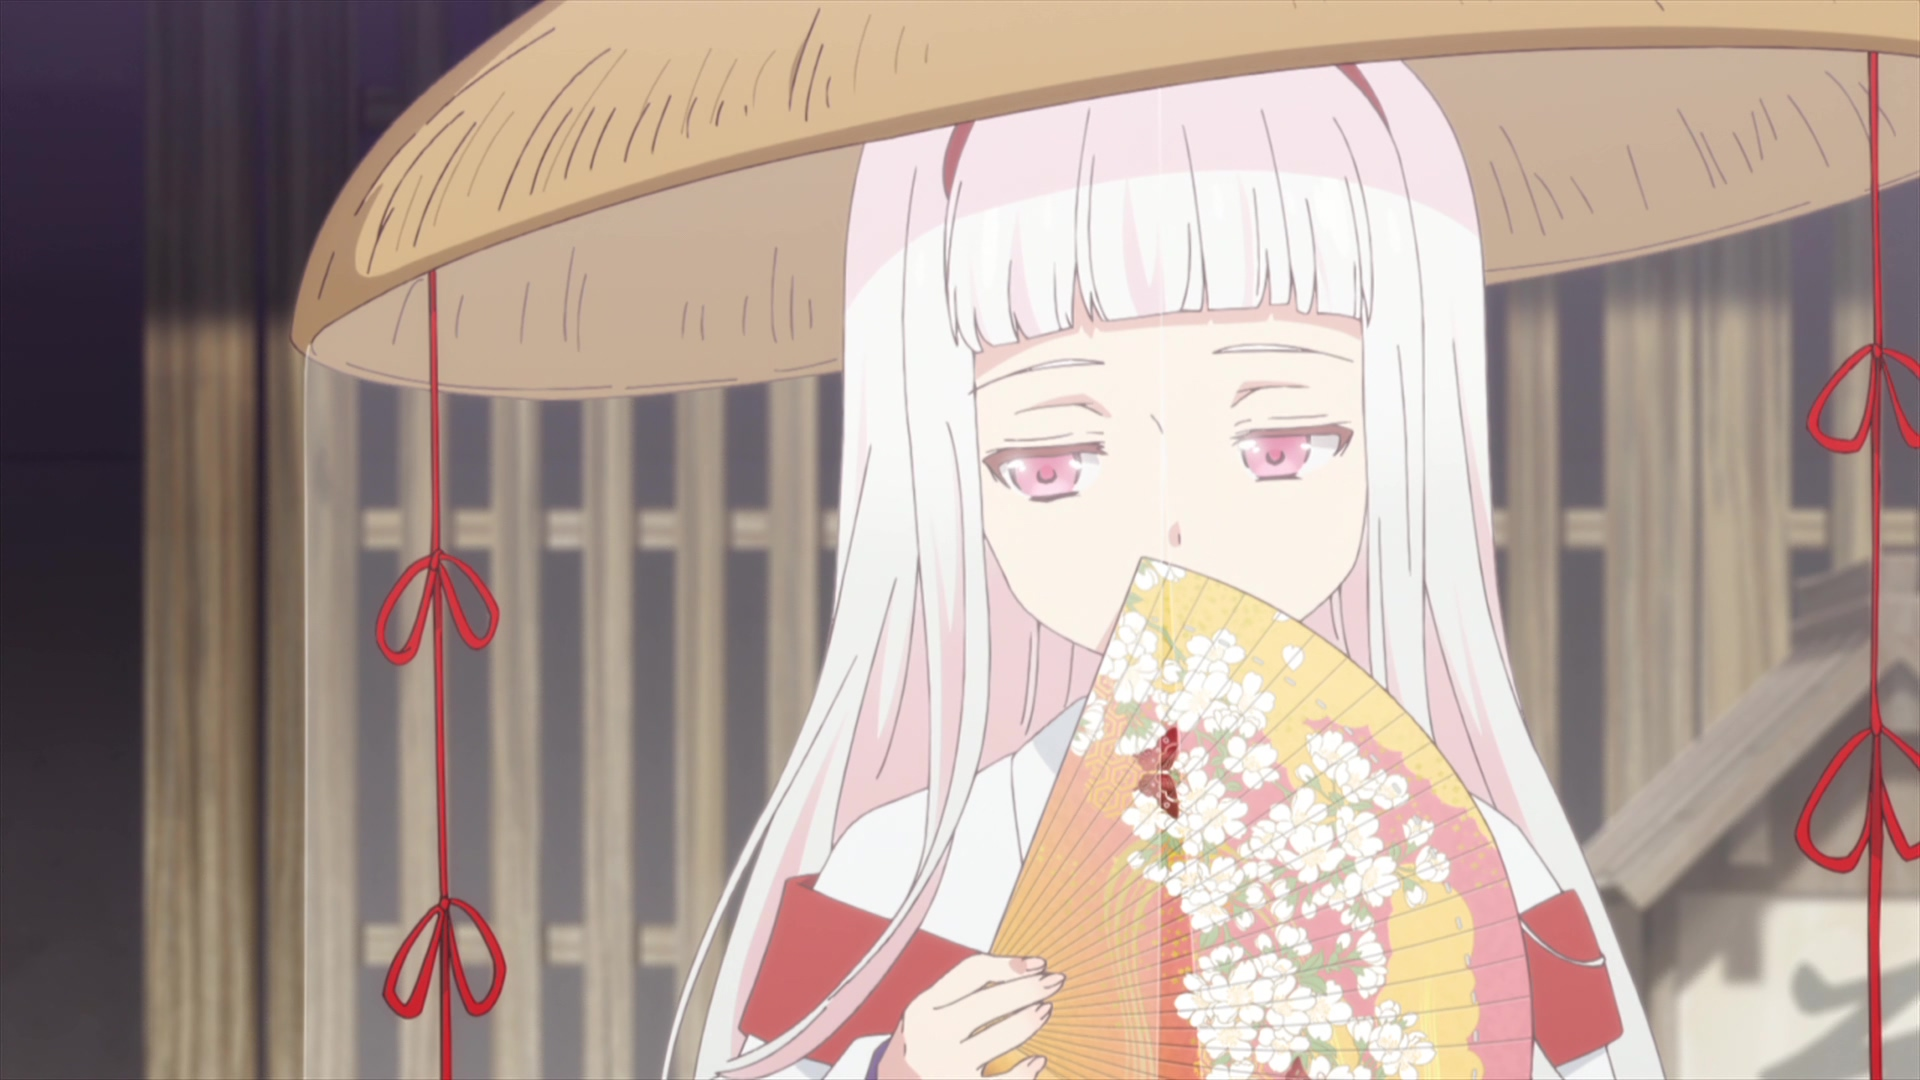其他: (291, 1, 1920, 1080)
